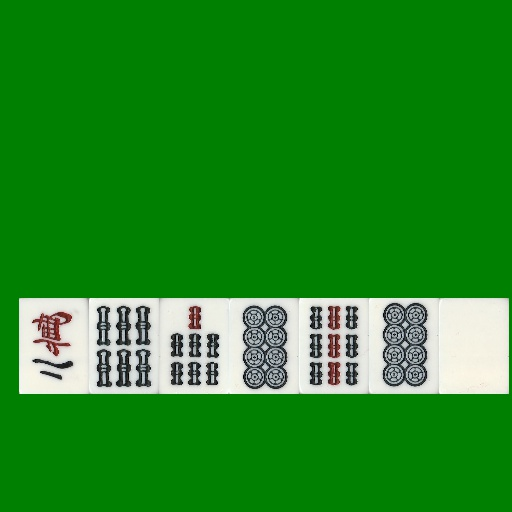2m: (19, 298, 89, 394)
6s: (89, 298, 159, 394)
7s: (159, 298, 229, 394)
8p: (229, 298, 299, 394), (369, 298, 439, 394)
9s: (299, 298, 369, 394)
white: (439, 298, 509, 394)
